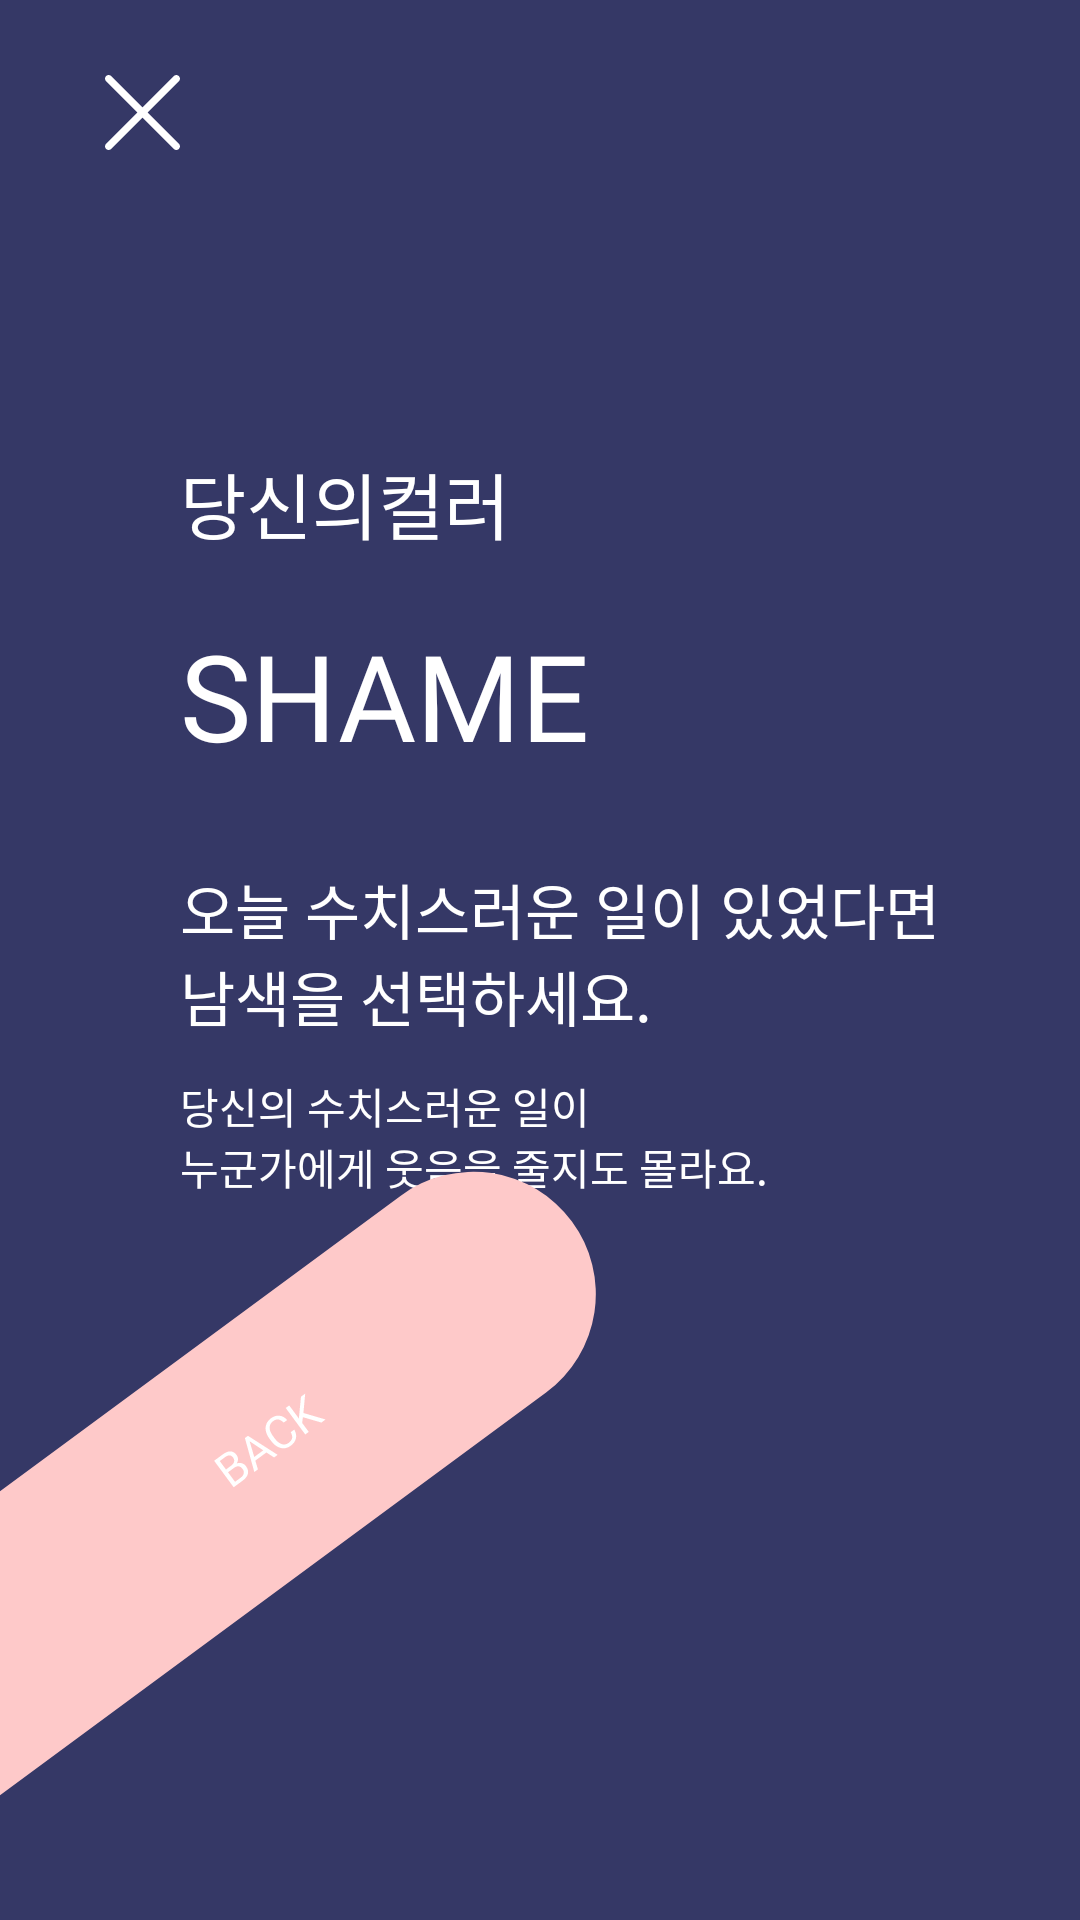

Screen size 1080*1920. Icon name, then its box in pixels as (x1, y1, x2, y2):
close: (105, 75, 180, 150)
